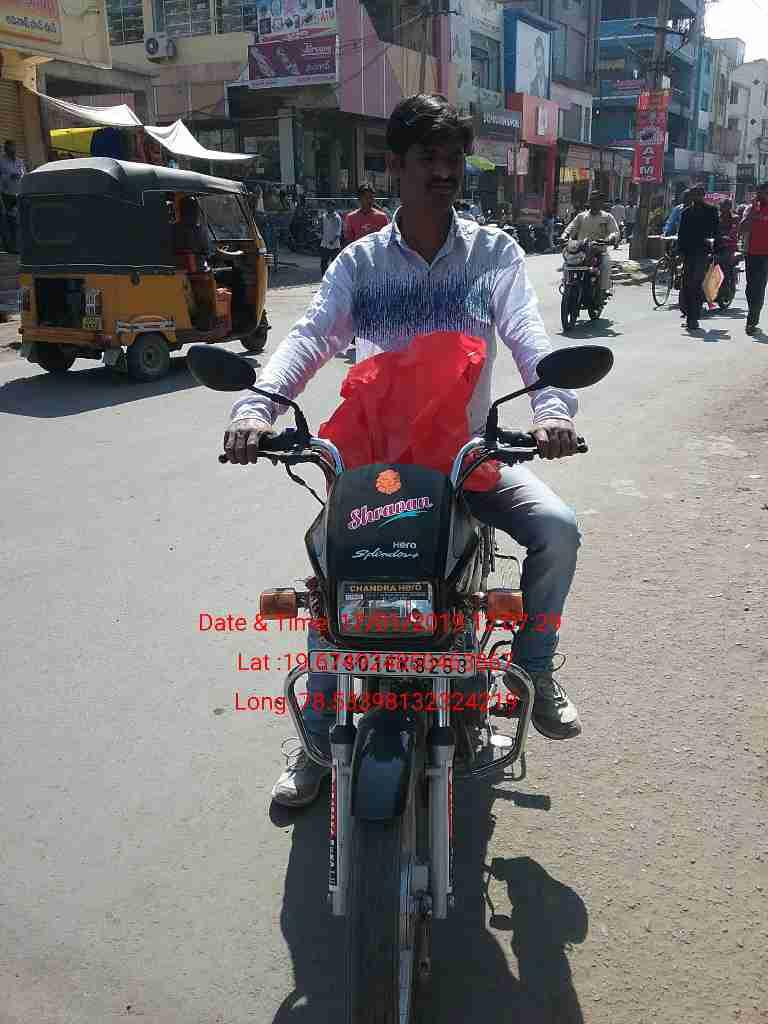plate: (305, 647, 485, 685), (558, 263, 594, 275)
